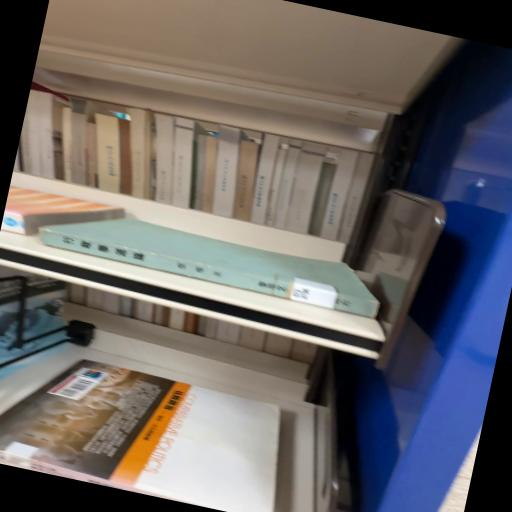flat: (1, 360, 280, 512), (40, 218, 378, 319)
